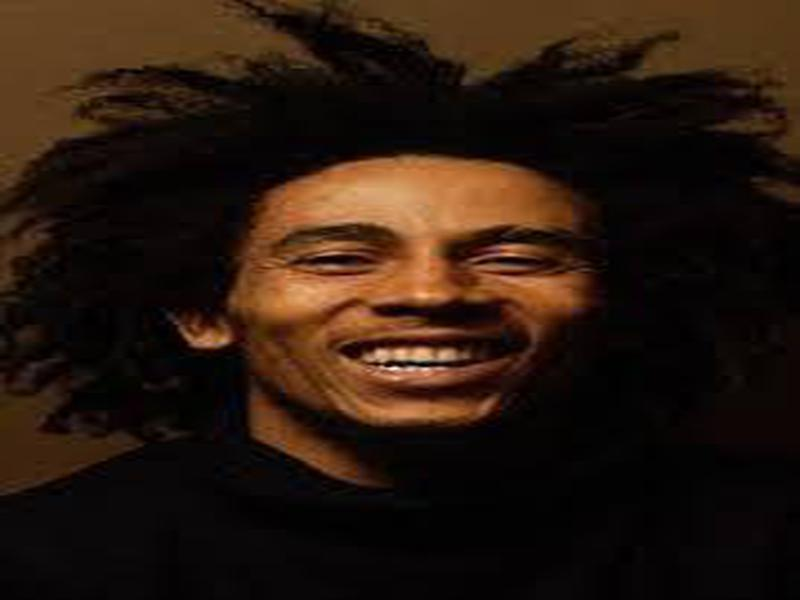without_mask: (249, 184, 593, 434)
